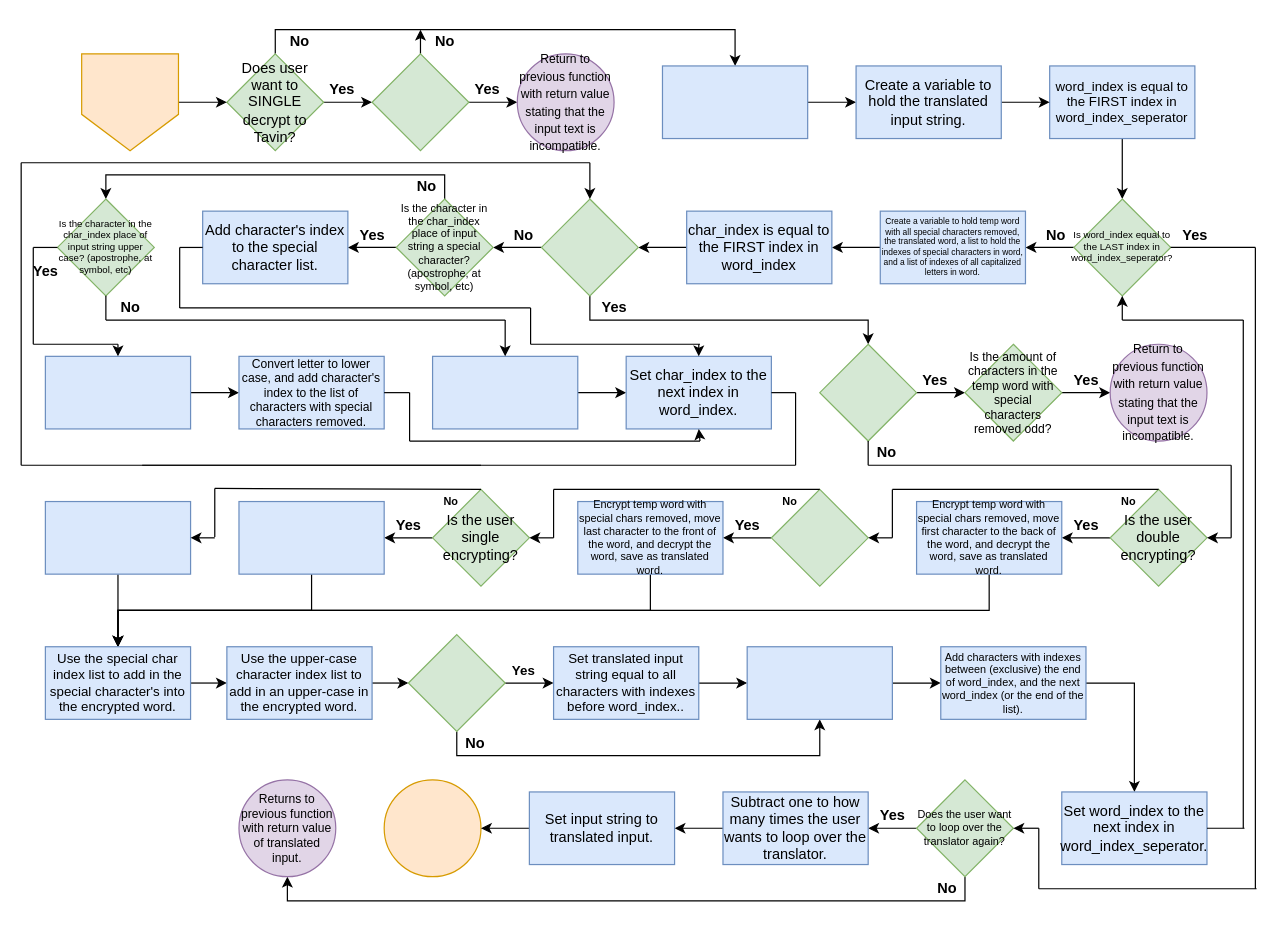
Image size: 1279x932. Some labels were removed from this diagram. Each missing label, with the box of its shape:
Add character's index to temp word with special characters removed.: (431, 355, 578, 429)
Add character's index to the upper-case character list.: (44, 355, 191, 429)
Add translated word to translated input.: (746, 646, 892, 719)
Calls tavin_translator_core (recursively), with the all user input.: (383, 779, 481, 877)
Decrypt word, save as translated word.: (44, 500, 191, 574)
Does the input string contain any non-vowel letters or numbers?: (371, 53, 469, 151)
Encrypt word, save as translated word.: (238, 500, 384, 574)
Is char_index equal to the LAST index in word_index?: (540, 198, 638, 296)
Is the user decrypting without looping?: (819, 343, 917, 441)
Is the user double decrypting: (770, 488, 868, 586)
Is word_index equal to the FIRST index in word_index_seperator?: (407, 633, 505, 731)
Separate input string into a list of indexes separate words.: (661, 65, 808, 139)
tavin_translator_core: (80, 53, 178, 151)
